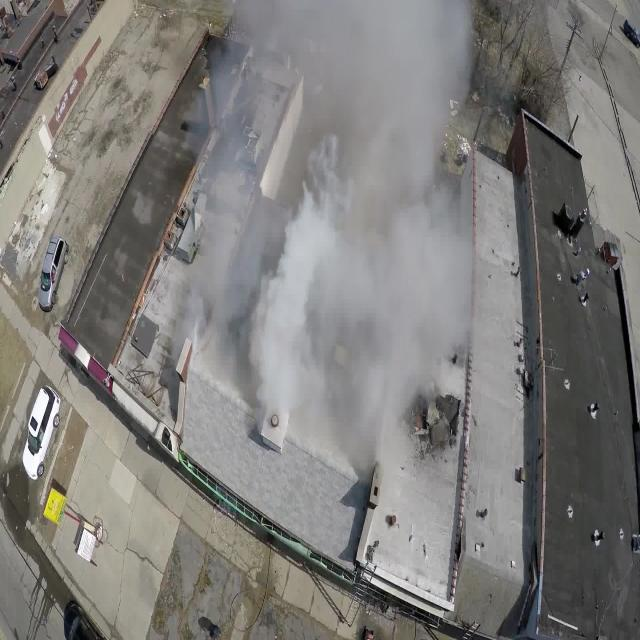Smoke: (195, 11, 478, 468)
